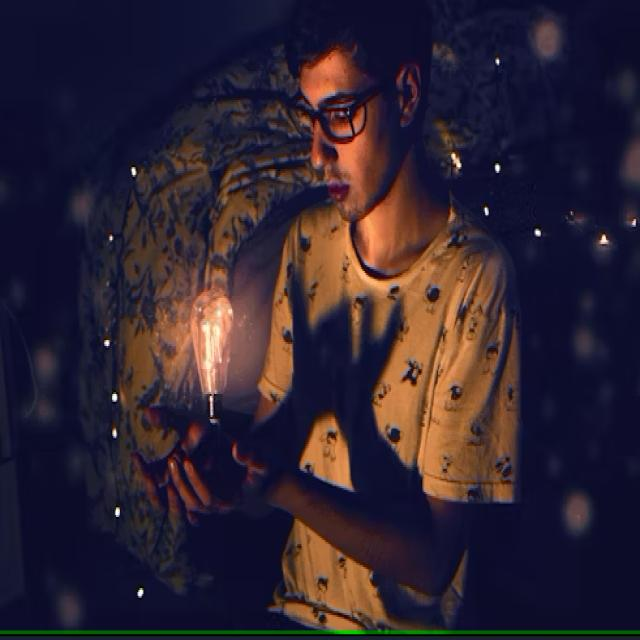Edited images: (159, 0, 553, 631)
